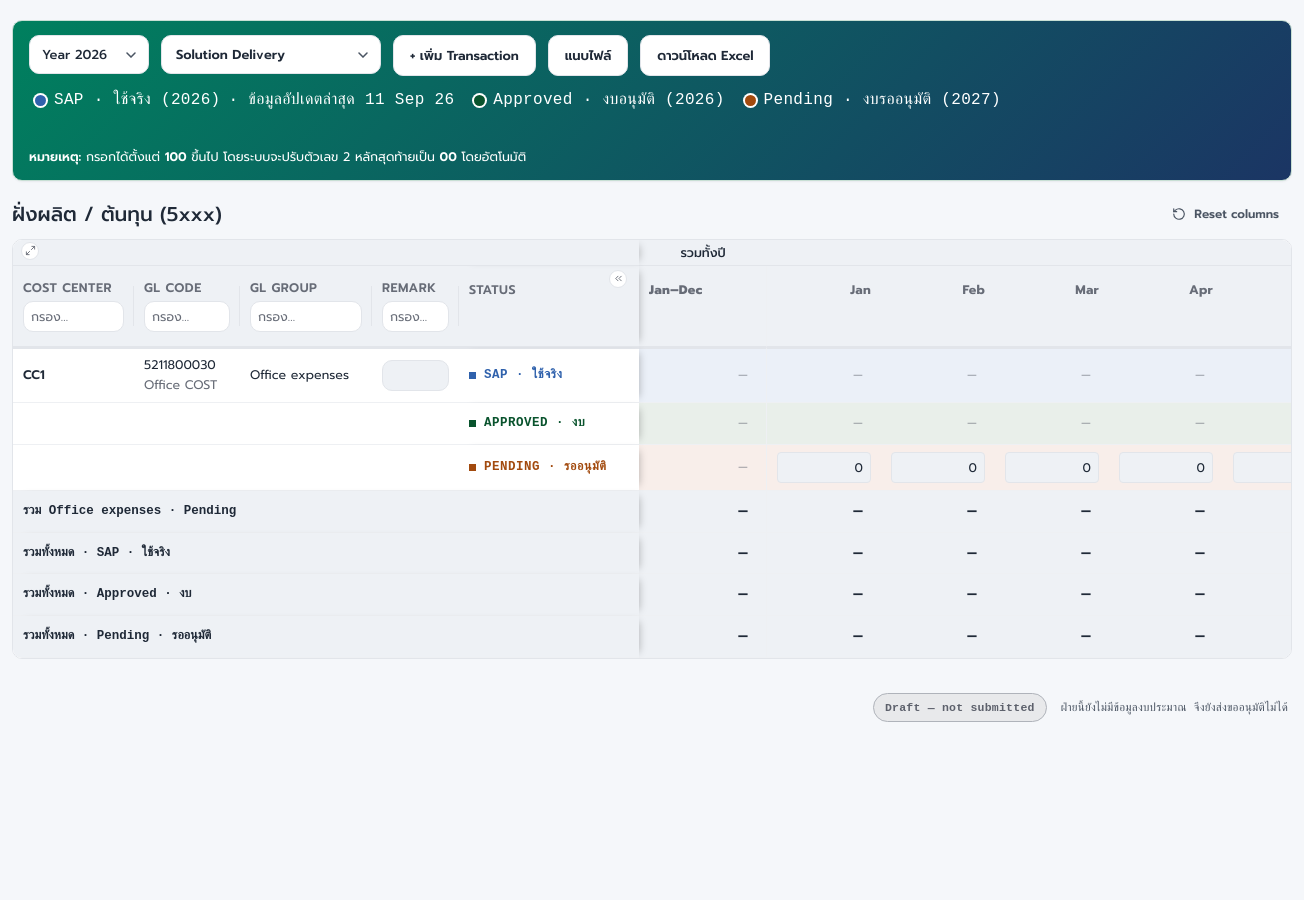
Scenario: BudgetGrid › a successful month-cell save on an empty department refreshes the Submit button without a page reload (bug fixed 2026-09-16)
Expected: the text "ฝ่ายนี้ยังไม่มีข้อมูลงบประมาณ จึงยังส่งขออนุมัติไม่ได้" is shown, [1061,699,1288,716]
Replace the text in the field with test id "pending-input-CC1-5211800030-m01" with "900" at {"x": 824, "y": 467}, box [777,452,871,483]
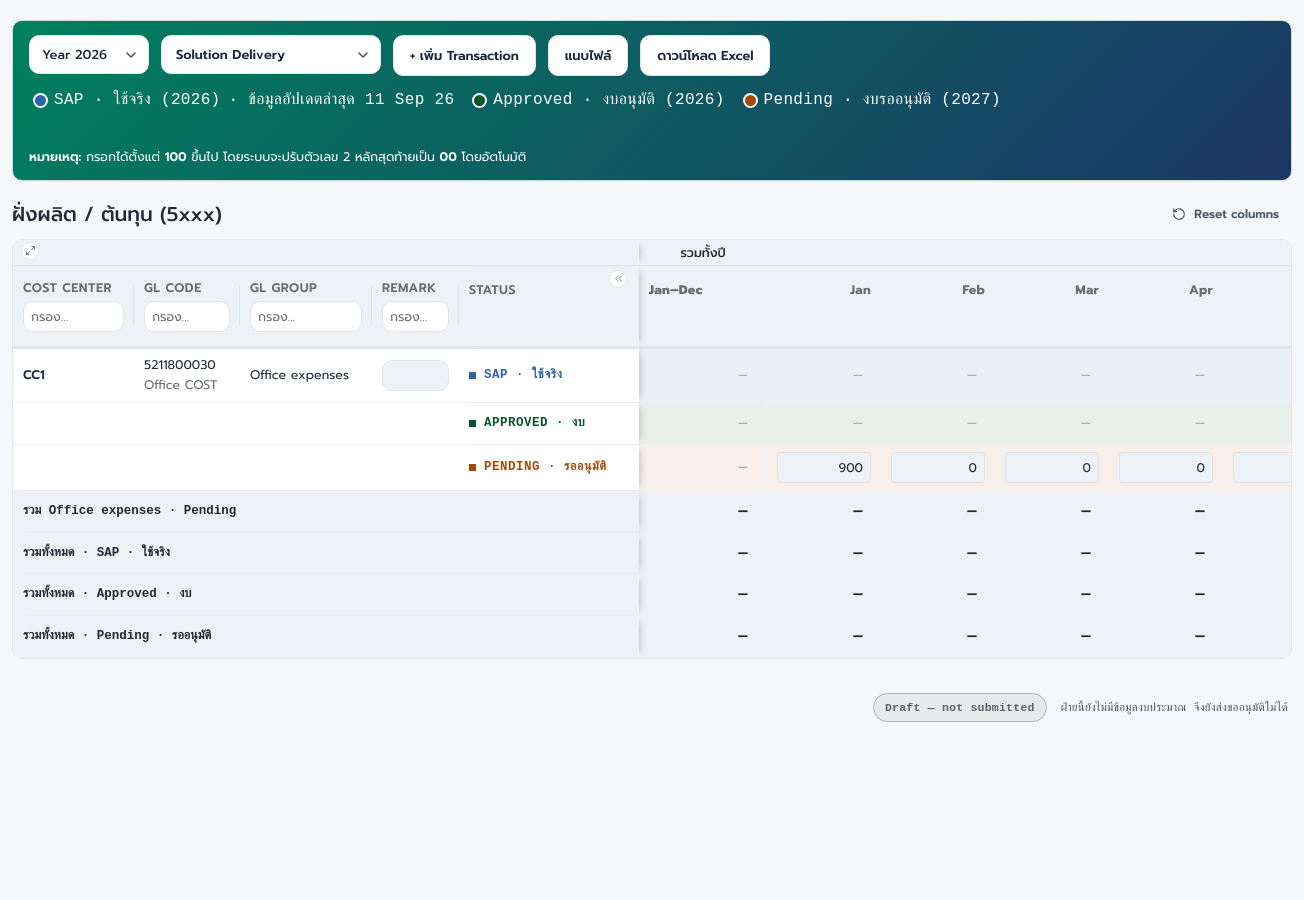
Leave the field with test id "pending-input-CC1-5211800030-m01", box [777,452,871,483]
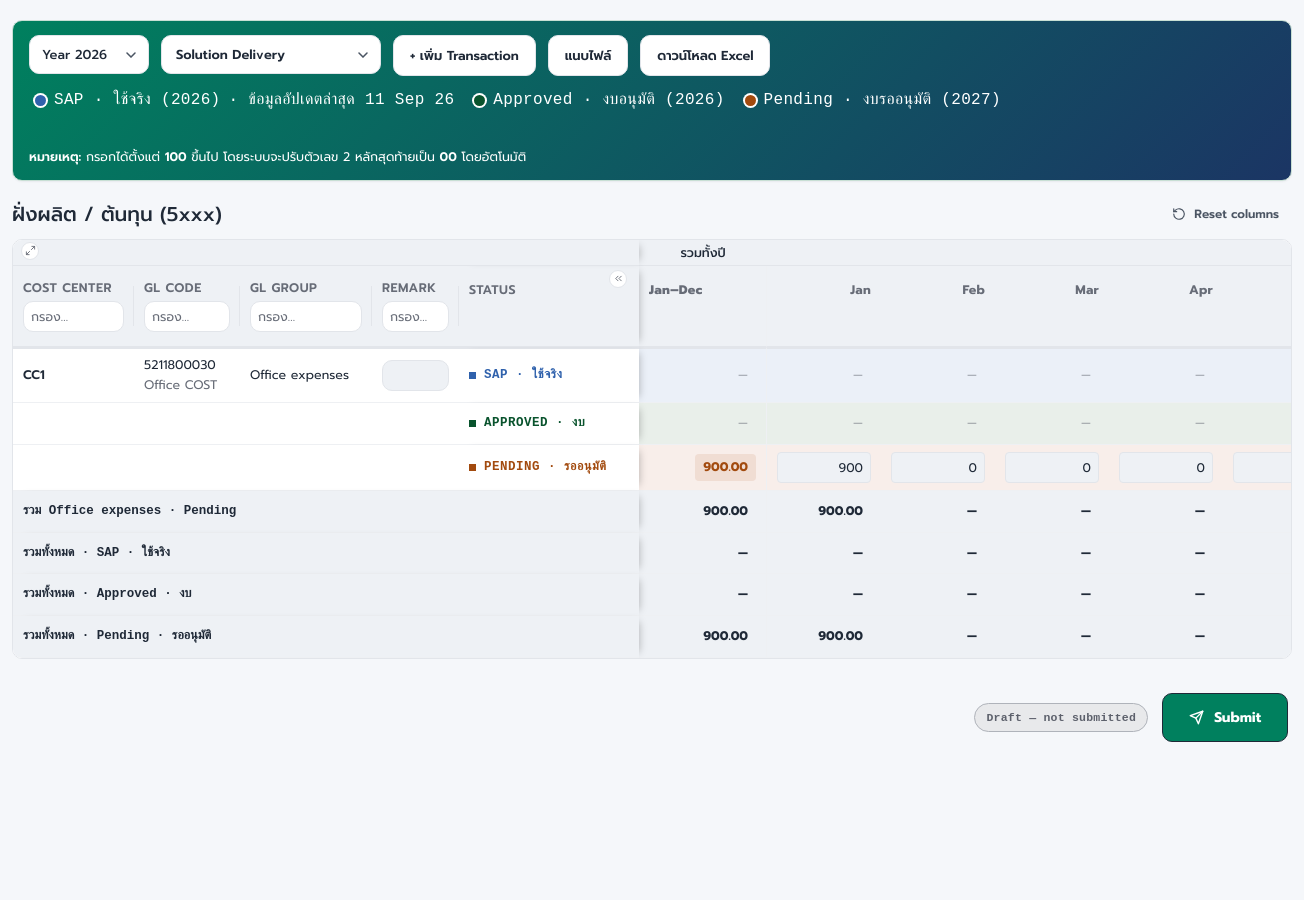
Expected: the button with test id "approval-submit-btn" is shown, [1162,693,1288,742]
